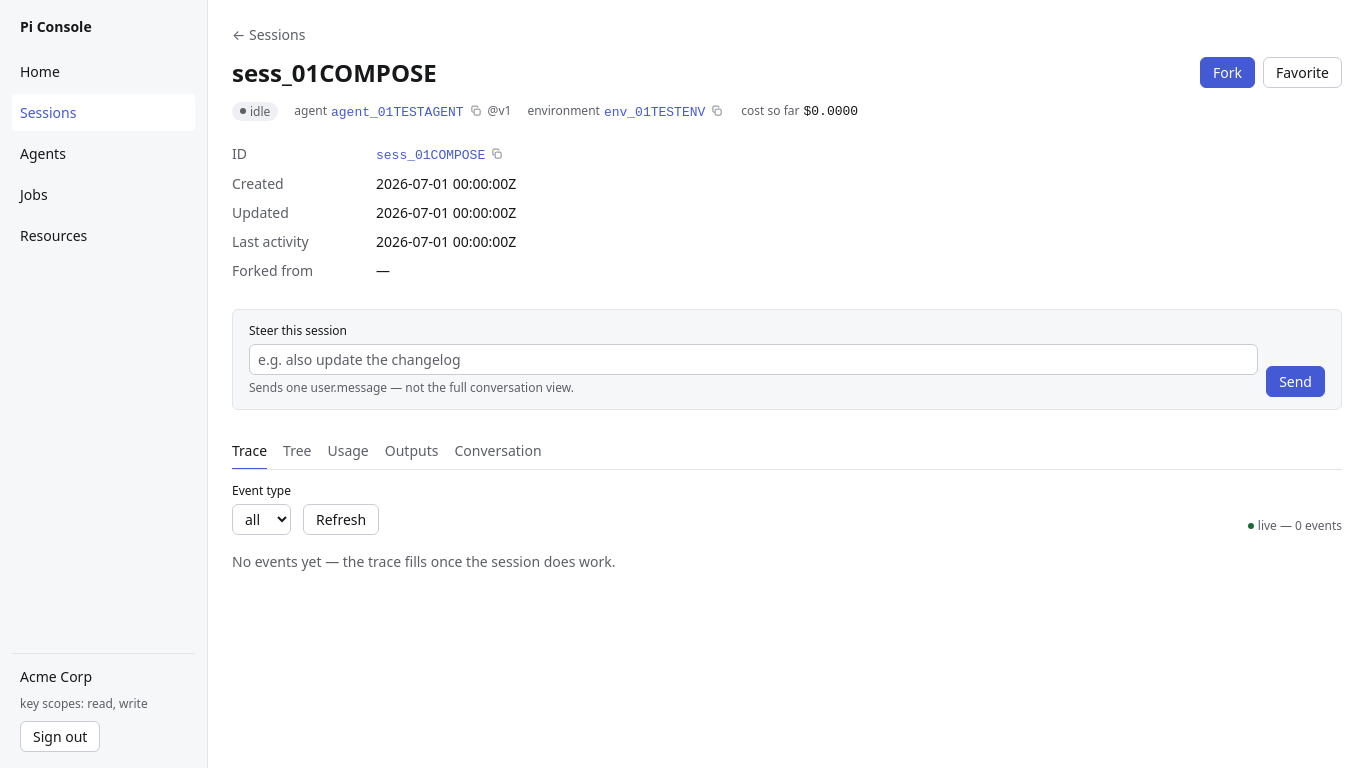
Test case: send + wake (§10.1, W5 step 2) › sends user.message from an idle session and shows the honest waking state
The image size is (1366, 768).
Expected: the element named "Session detail" is shown, [232,434,1342,470]
Click the tab "Conversation". click: (498, 452)
box: [454,434,542,470]
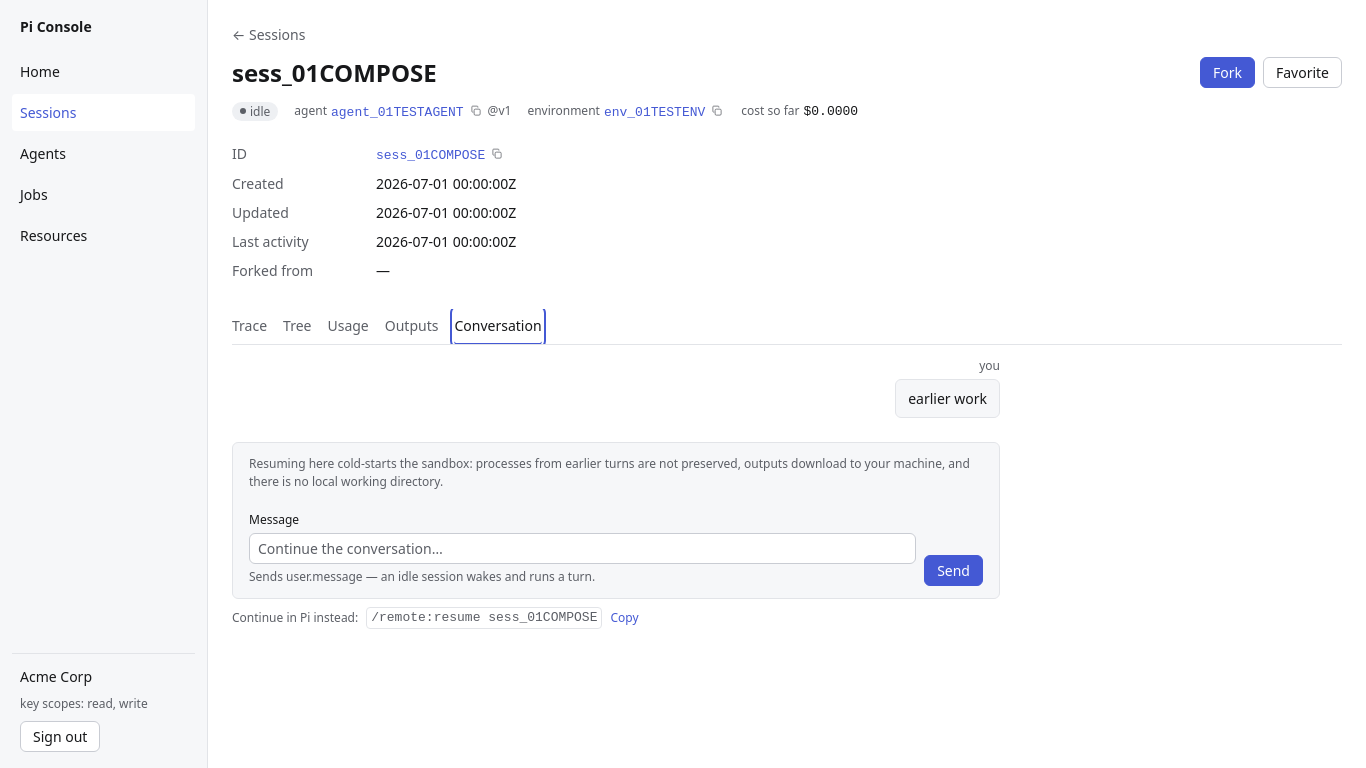
Type "pick up where we left off" into the field labelled "Message". click: (583, 549)
box: [249,533,916,564]
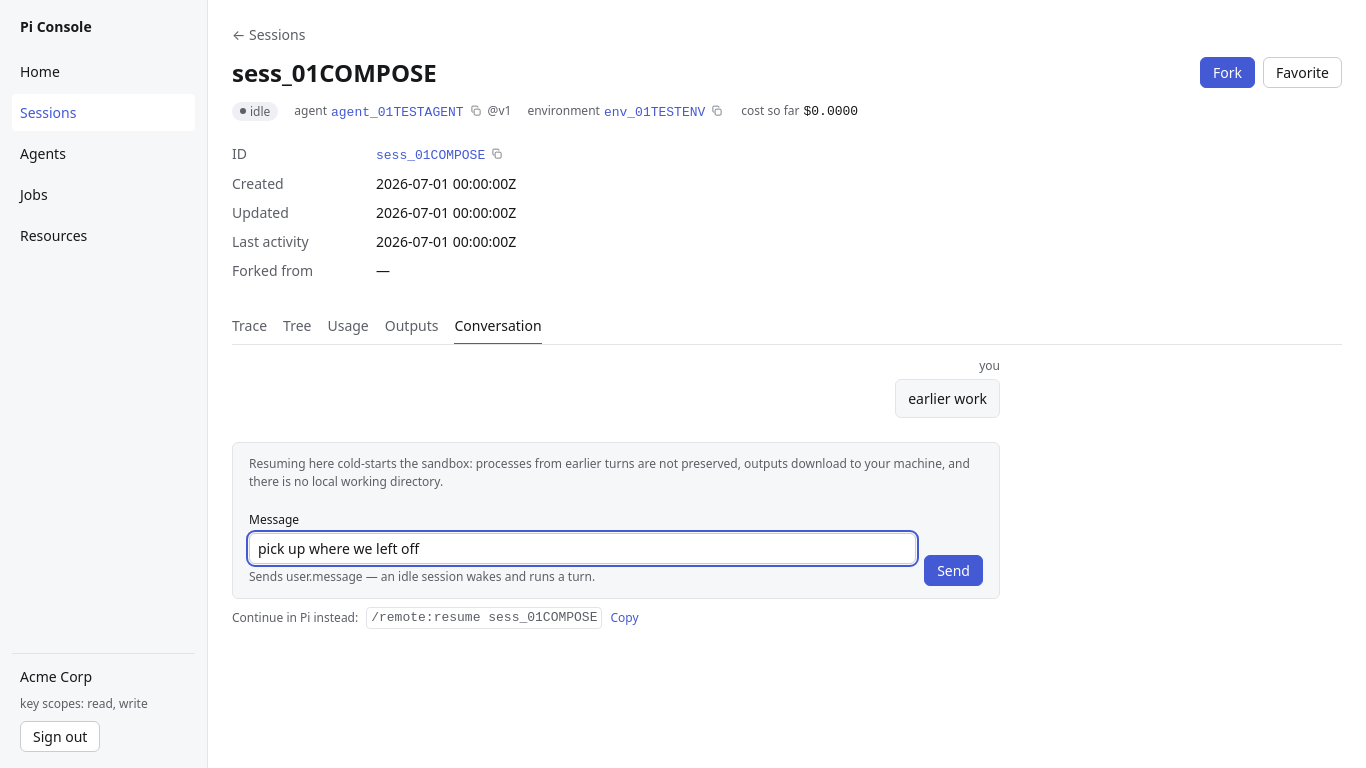
Click the button "Send". click: (954, 571)
box: [924,555,983,586]
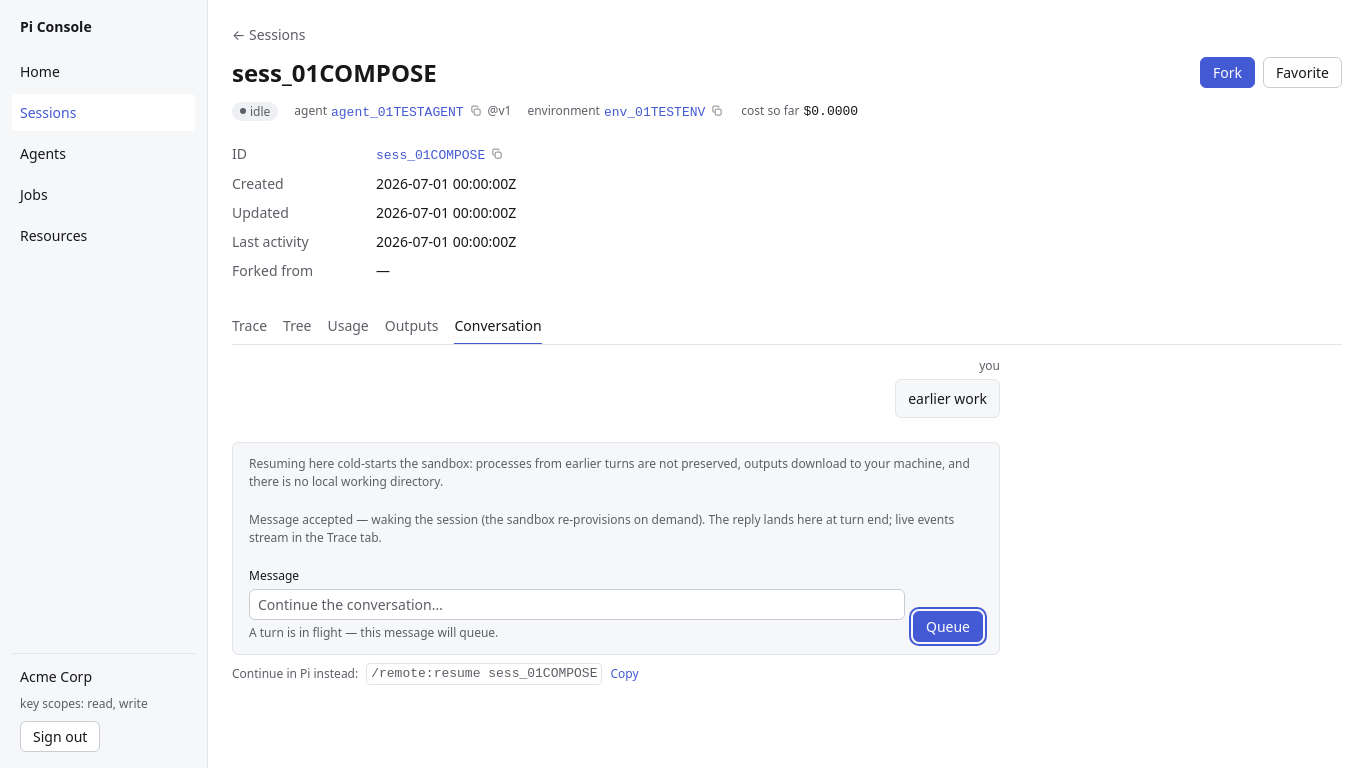
Now the field labelled "Message" is empty, box [249,589,905,620]
Now the text "Message accepted — waking the session" is shown, box [249,511,954,546]
